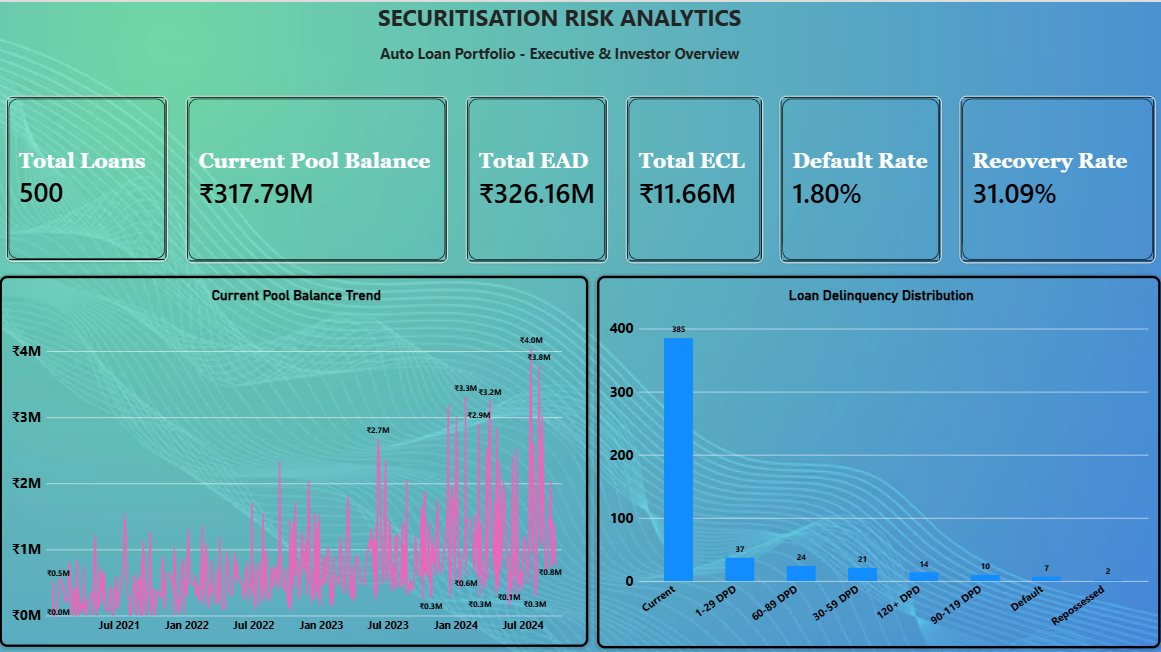

The dashboard page shown, as its layout file describes it:
{"tool":"powerbi","page":{"name":"Executive Overview","canvas":[1920,1080],"ordinal":0},"visuals":[{"type":"textbox","box":[584.6,0,683.4,111.1],"z":0},{"type":"cardVisual","fields":{"Data":["Measures (2).Total Loans"]},"box":[14.4,154.4,267.6,273.8],"z":1000},{"type":"cardVisual","fields":{"Data":["Measures (2).Current Pool Balance"]},"box":[310.8,154.4,432.2,275.8],"z":2000},{"type":"cardVisual","fields":{"Data":["Measures (2).Total EAD"]},"box":[771.9,154.4,234.6,275.8],"z":3000},{"type":"cardVisual","fields":{"Data":["Measures (2).Total ECL"]},"box":[1035.3,154.4,226.4,275.8],"z":4000},{"type":"cardVisual","fields":{"Data":["Measures (2).Default Rate"]},"box":[1288.5,154.4,267.6,275.8],"z":5000},{"type":"cardVisual","fields":{"Data":["Measures (2).Recovery Rate"]},"box":[1584.9,154.4,323.2,275.8],"z":6000},{"type":"lineChart","title":"Current Pool Balance Trend","fields":{"Category":["Calendar.Date"],"Y":["Measures (2).Current Pool Balance"]},"box":[14.4,450.8,969.5,611.3],"z":7000},{"type":"columnChart","title":"Loan Delinquency Distribution","fields":{"Category":["Loan.DelinquencyStatus"],"Y":["Measures (2).Total Loans"]},"box":[1000.3,450.8,901.5,613.4],"z":8000}]}

Visuals, with their boxes in screenshot pixels (x1, y1, x2, y2), scaled from the page's 1920x1080 canvas onto the 1161x652 screenshot:
textbox: BBox(354, 0, 767, 67)
cardVisual - Measures (2).Total Loans: BBox(9, 93, 171, 259)
cardVisual - Measures (2).Current Pool Balance: BBox(188, 93, 449, 260)
cardVisual - Measures (2).Total EAD: BBox(467, 93, 609, 260)
cardVisual - Measures (2).Total ECL: BBox(626, 93, 763, 260)
cardVisual - Measures (2).Default Rate: BBox(779, 93, 941, 260)
cardVisual - Measures (2).Recovery Rate: BBox(958, 93, 1154, 260)
"Current Pool Balance Trend" lineChart: BBox(9, 272, 595, 641)
"Loan Delinquency Distribution" columnChart: BBox(605, 272, 1150, 642)
